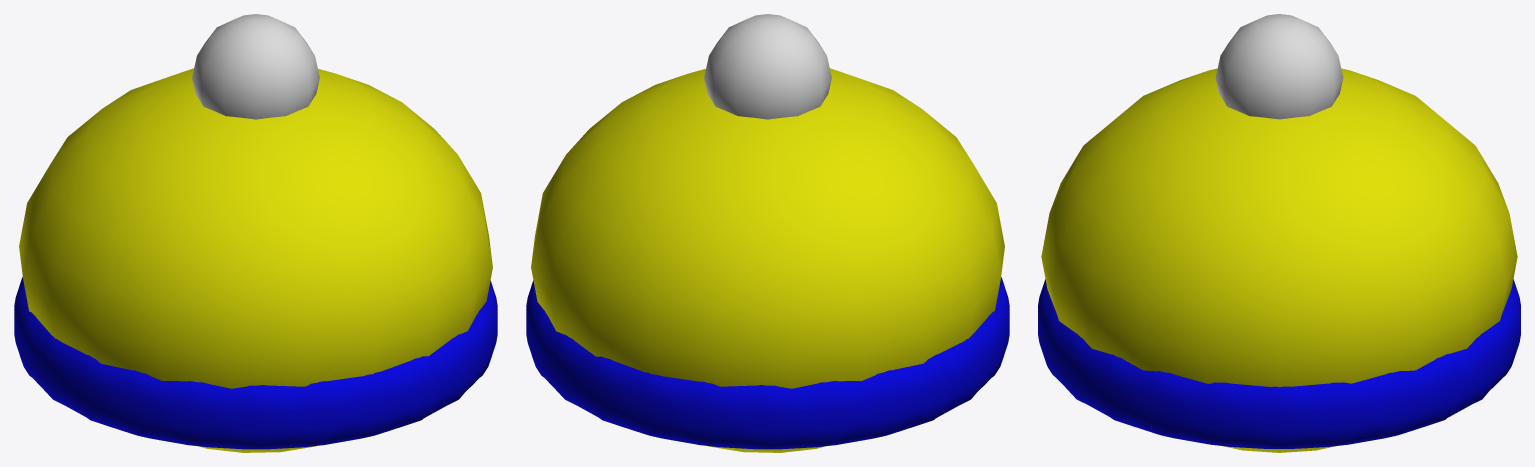
Rendered from Hat2.fbx.
The picture shows the model from 3 angles, left to right: view 1: azimuth 30°, elevation 25°; view 2: azimuth 150°, elevation 25°; view 3: azimuth 270°, elevation 25°; orthographic projection.
Parts seen in each view (by area): view 1: Hat2; view 2: Hat2; view 3: Hat2.
Part boxes in pixels (x1,y1,x2,y2): Hat2: (14,14,497,452); Hat2: (526,14,1009,452); Hat2: (1038,14,1520,452).
Bounding box in the file's own units: 0.4157 × 0.385 × 0.4157.
